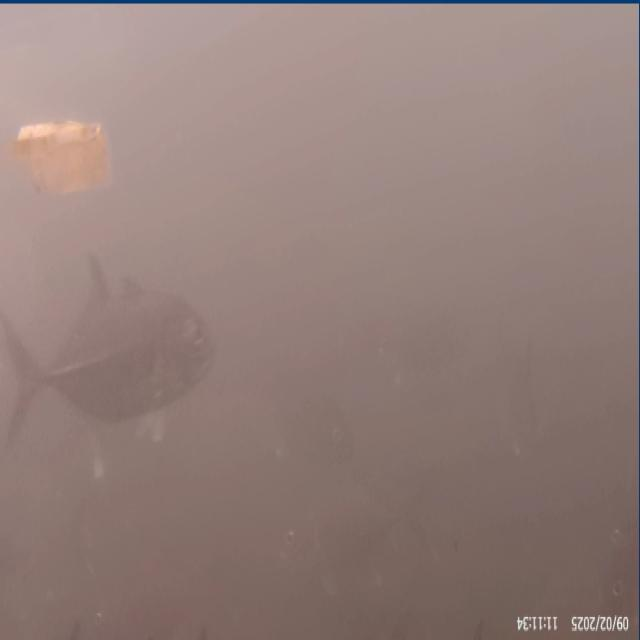ikan: (2, 247, 216, 452)
